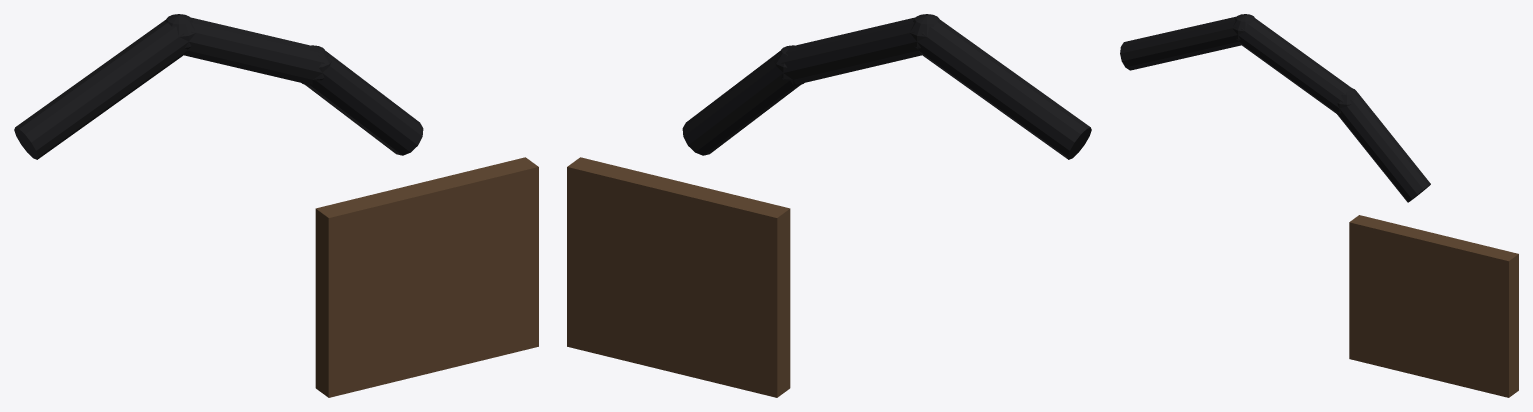
File: GalakasMidCity_PIECE_SignBracketWood_01.obj
The picture shows the model from 3 angles, left to right: view 1: azimuth 30°, elevation 25°; view 2: azimuth 150°, elevation 25°; view 3: azimuth 330°, elevation 25°; orthographic projection. The views are drawn at different scales.
Visible parts, largest first — view 1: small_sign_board, curved_sign_bracket_seg0, curved_sign_bracket_seg1, curved_sign_bracket_seg2, curved_sign_bracket_joint1; view 2: small_sign_board, curved_sign_bracket_seg0, curved_sign_bracket_seg1, curved_sign_bracket_seg2, curved_sign_bracket_joint1; view 3: small_sign_board, curved_sign_bracket_seg1, curved_sign_bracket_seg0, curved_sign_bracket_seg2.
Part boxes in pixels (x1,y1,x2,y2): small_sign_board: [315, 157, 538, 397]; curved_sign_bracket_seg0: [15, 20, 188, 159]; curved_sign_bracket_seg1: [184, 17, 324, 84]; curved_sign_bracket_seg2: [305, 51, 423, 155]; curved_sign_bracket_joint1: [165, 14, 195, 53]; small_sign_board: [567, 157, 790, 397]; curved_sign_bracket_seg0: [917, 20, 1090, 159]; curved_sign_bracket_seg1: [781, 17, 921, 84]; curved_sign_bracket_seg2: [682, 51, 800, 155]; curved_sign_bracket_joint1: [910, 14, 940, 53]; small_sign_board: [1349, 215, 1518, 397]; curved_sign_bracket_seg1: [1238, 18, 1352, 113]; curved_sign_bracket_seg0: [1120, 16, 1241, 70]; curved_sign_bracket_seg2: [1336, 94, 1430, 202].
Size of the model in its own units: 1.34 by 1.03 by 0.09.
